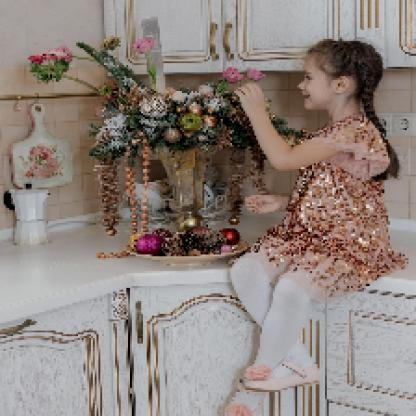child: (224, 38, 413, 415)
